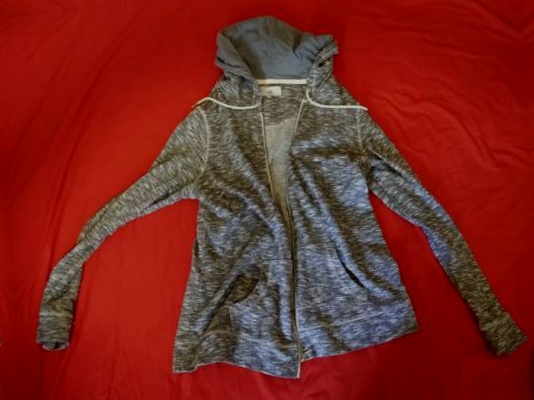Hoodie: (26, 0, 534, 400), (62, 395, 534, 400), (529, 0, 534, 371)
